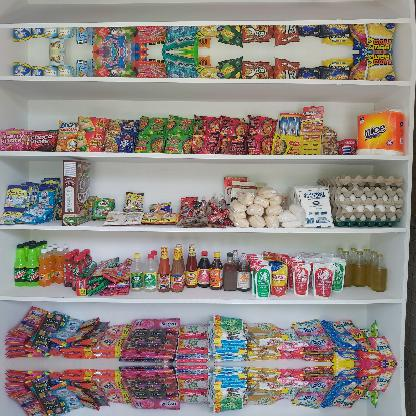Koko-Krunch: (60, 158, 92, 226)
